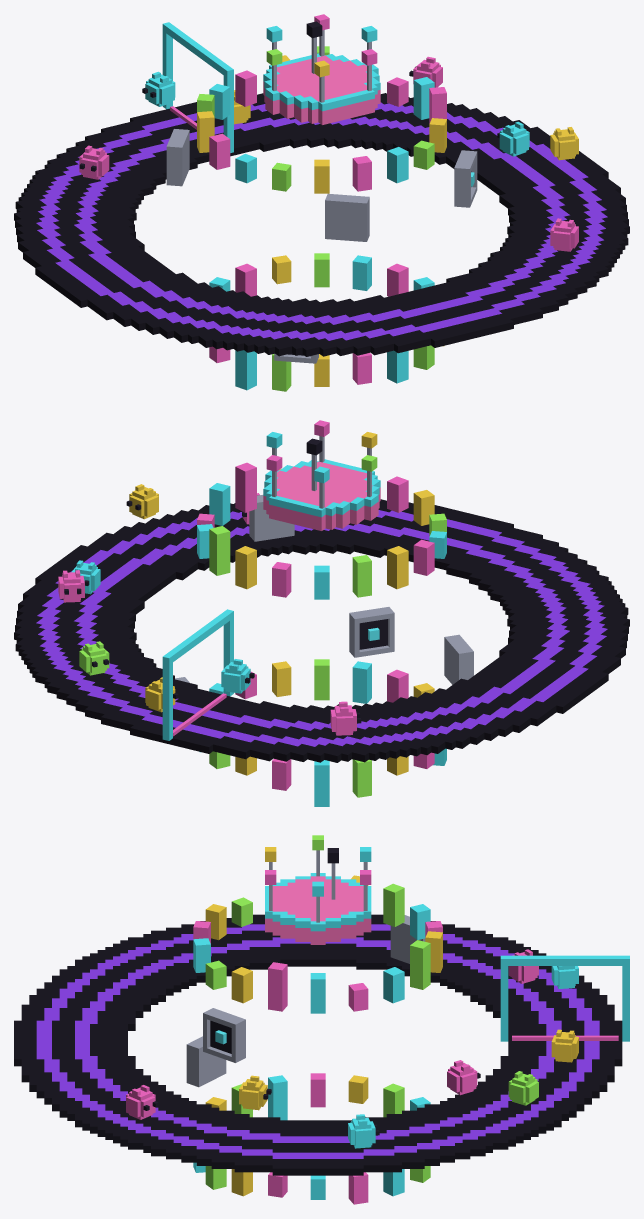
The model's file is saturno_escenario.obj.
3 views of the same model, one above another, from view 1: azimuth 30°, elevation 25°; view 2: azimuth 150°, elevation 25°; view 3: azimuth 270°, elevation 25° (orthographic).
Parts seen in each view (by area): view 1: vinil_0, vinil_4, vinil_2, vinil_3, vinil_1, escenario_hexagono, bocina_aro_3, escenario_borde, bocina_aro_1, bocina_aro_0, puerta_arco, nota_piso_5_cuerpo (+29 smaller); view 2: vinil_0, vinil_4, vinil_2, vinil_3, vinil_1, escenario_hexagono, escenario_borde, bocina_aro_1, bocina_aro_2, bocina_aro_0, eq_norte_15, eq_norte_01 (+26 smaller); view 3: vinil_0, vinil_4, vinil_2, vinil_3, vinil_1, escenario_hexagono, escenario_borde, bocina_aro_0, puerta_arco, bocina_aro_2, eq_norte_15, eq_norte_01 (+27 smaller).
Part boxes in pixels (x1,y1,x2,y2): vinil_0: [90, 122, 553, 318]; vinil_4: [14, 93, 629, 356]; vinil_2: [52, 109, 591, 333]; vinil_3: [36, 102, 607, 340]; vinil_1: [74, 116, 569, 324]; escenario_hexagono: [263, 55, 380, 124]; bocina_aro_3: [325, 193, 369, 241]; escenario_borde: [263, 53, 380, 111]; bocina_aro_1: [166, 129, 189, 186]; bocina_aro_0: [454, 150, 477, 207]; puerta_arco: [162, 22, 233, 77]; nota_piso_5_cuerpo: [499, 121, 529, 156]; vinil_0: [90, 528, 553, 724]; vinil_4: [14, 499, 629, 762]; vinil_2: [52, 515, 591, 739]; vinil_3: [36, 510, 607, 746]; vinil_1: [74, 523, 569, 730]; escenario_hexagono: [263, 461, 380, 530]; escenario_borde: [263, 459, 380, 517]; bocina_aro_1: [349, 607, 394, 657]; bocina_aro_2: [444, 634, 473, 684]; bocina_aro_0: [249, 495, 294, 541]; eq_norte_15: [209, 526, 230, 575]; eq_norte_01: [235, 462, 256, 512]; vinil_0: [90, 943, 546, 1136]; vinil_4: [14, 914, 622, 1175]; vinil_2: [52, 930, 584, 1152]; vinil_3: [36, 924, 599, 1158]; vinil_1: [75, 937, 561, 1142]; escenario_hexagono: [265, 876, 371, 944]; escenario_borde: [265, 873, 371, 931]; bocina_aro_0: [203, 1008, 245, 1062]; puerta_arco: [500, 955, 629, 965]; bocina_aro_2: [186, 1036, 226, 1087]; eq_norte_15: [410, 940, 430, 989]; eq_norte_01: [268, 962, 287, 1011].
Bounding box in the file's own units: 8 × 4.6 × 8.1.
